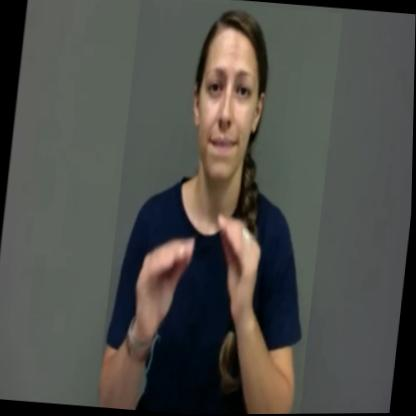Fix: (98, 0, 343, 415)
